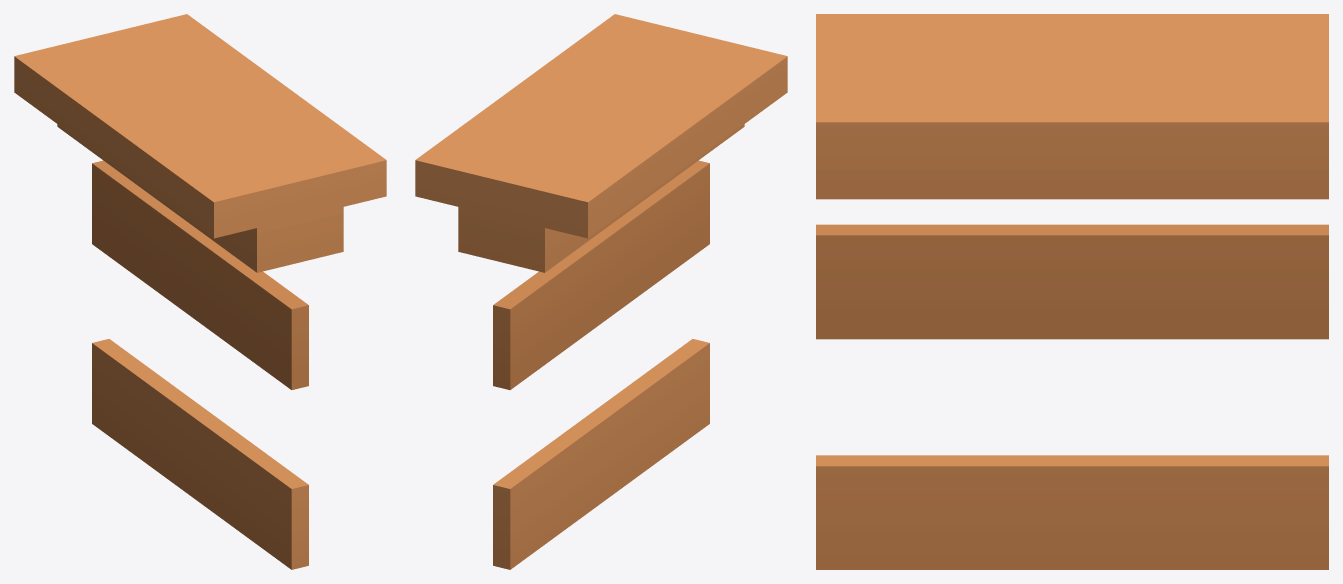
Rendered from railing_2.glb.
3 views of the same model, side by side, from view 1: azimuth 30°, elevation 25°; view 2: azimuth 150°, elevation 25°; view 3: azimuth 270°, elevation 25° (orthographic). The views are drawn at different scales.
Parts seen in each view (by area): view 1: railing_2; view 2: railing_2; view 3: railing_2.
Boxes of the visible parts, box(x1,y1,x2,y2) form: railing_2: box(14, 14, 386, 569); railing_2: box(415, 14, 787, 569); railing_2: box(816, 14, 1328, 569).
Size of the model in its own units: 0.4029 by 0.8606 by 0.8057.
Materials: 1 (1 with a texture image).
